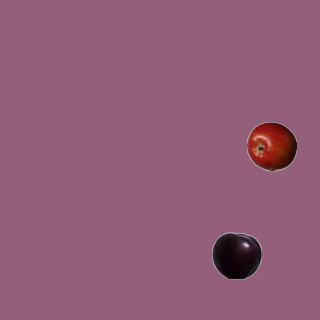Apple Braeburn: (246, 121, 296, 171)
Cherry Wax Black: (211, 230, 261, 280)
